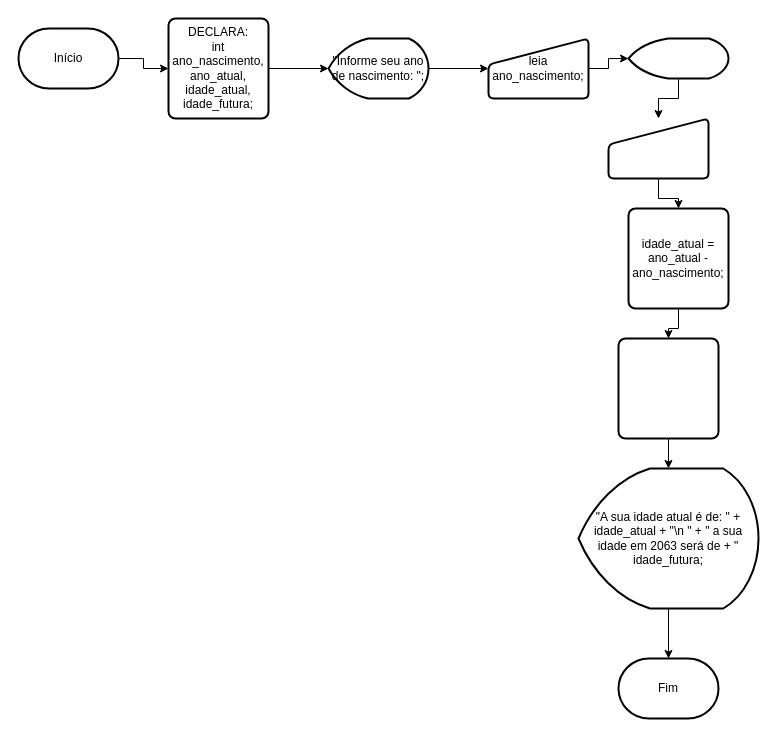
This 776x736 diagram has some shape labels left out. Here are the shapes that lost their labels. From the top down, the centre of each, then its label:
point (678, 58): "Informe o ano atual: ";
point (658, 148): leia ano_atual;
point (668, 388): idade_futura = 2063 - ano_nascimento;
